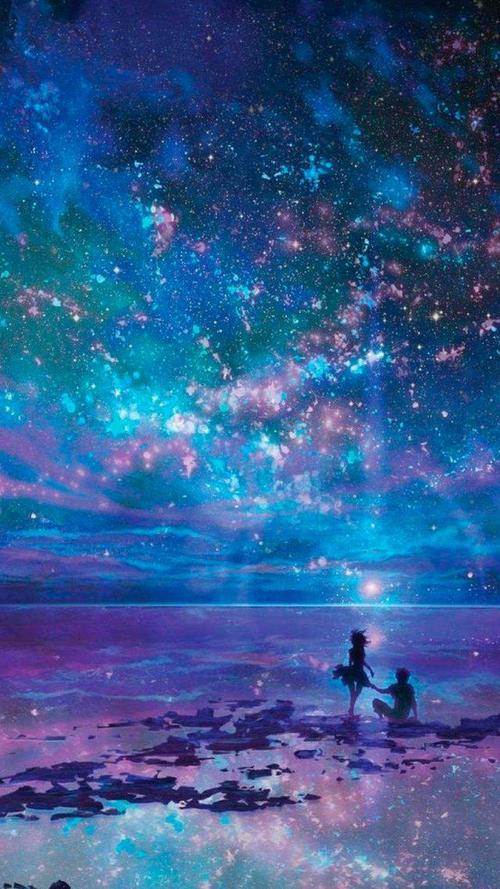sea_river: (0, 51, 499, 567)
